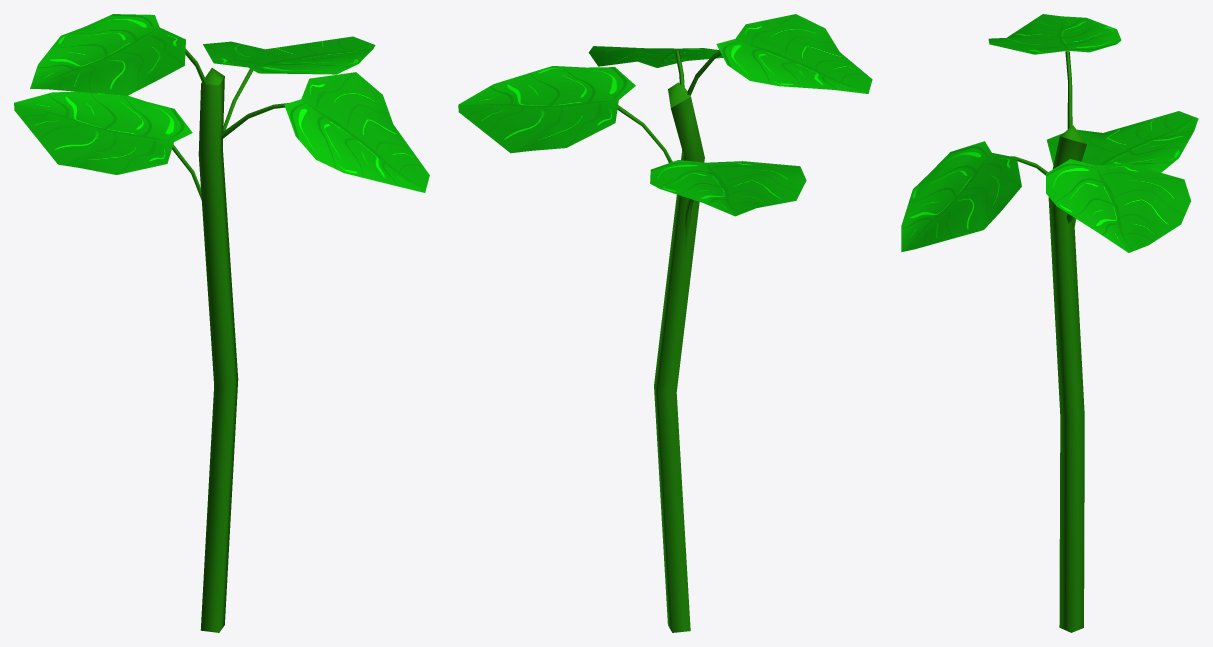
Rendered from Sunflower Stage 1.fbx.
3 renders of one model, left to right at view 1: azimuth 30°, elevation 25°; view 2: azimuth 150°, elevation 25°; view 3: azimuth 270°, elevation 25°, orthographic. The views are drawn at different scales.
Visible parts, largest first — view 1: Sunflower_Stage_1; view 2: Sunflower_Stage_1; view 3: Sunflower_Stage_1.
Boxes of the visible parts, bbox=[...] form: Sunflower_Stage_1: bbox=[14, 14, 429, 632]; Sunflower_Stage_1: bbox=[458, 14, 872, 632]; Sunflower_Stage_1: bbox=[901, 14, 1198, 632].
Size of the model in its own units: 0.2716 by 0.4185 by 0.2034.
2 materials, 1 textured.
